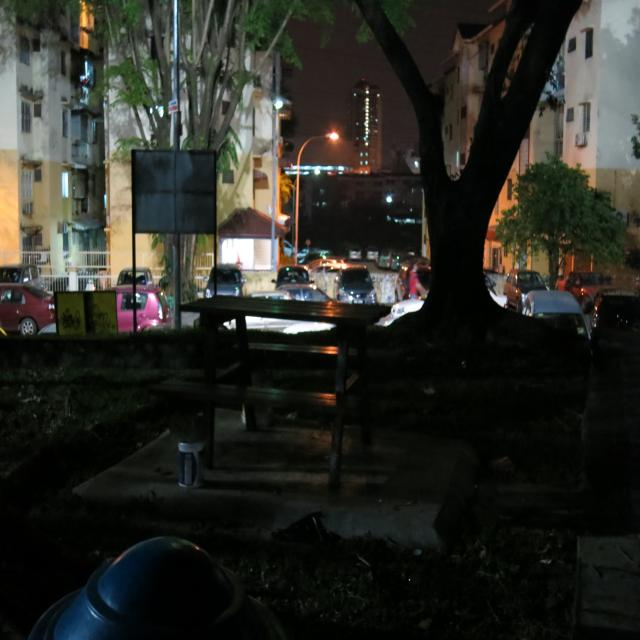Table: (165, 281, 420, 406)
car: (0, 278, 69, 355), (88, 277, 173, 336), (521, 287, 585, 365), (588, 282, 640, 346), (110, 253, 175, 304), (313, 262, 378, 313), (392, 248, 437, 314), (269, 262, 313, 325), (194, 251, 246, 304), (0, 250, 50, 301), (496, 262, 550, 297), (575, 263, 614, 307)
chair: (131, 356, 381, 502)
